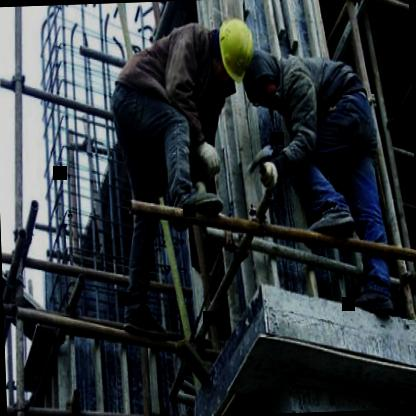head: (242, 53, 283, 116)
helmet: (213, 12, 259, 89)
